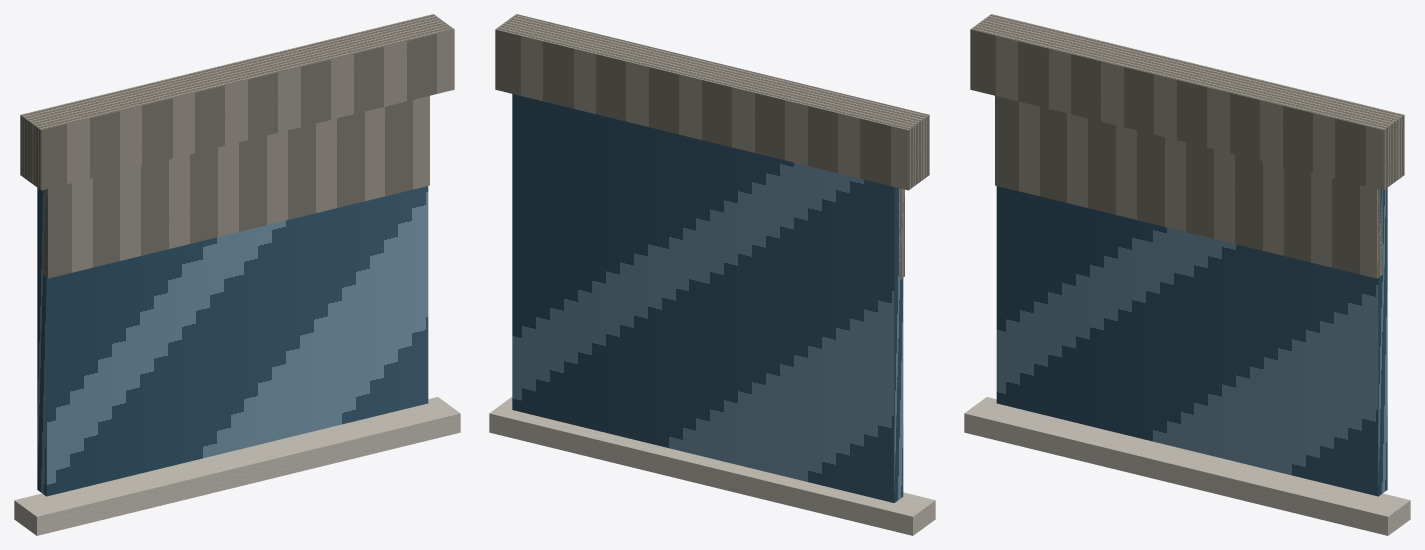
Rendered from window-ensanche-lod0.glb.
3 renders of one model, left to right at view 1: azimuth 30°, elevation 25°; view 2: azimuth 150°, elevation 25°; view 3: azimuth 330°, elevation 25°, orthographic.
Visible parts, largest first — view 1: window-ensanche-lod0; view 2: window-ensanche-lod0; view 3: window-ensanche-lod0.
Part boxes in pixels (left/top/right/bottom): window-ensanche-lod0: left=14, top=14, right=460, bottom=535; window-ensanche-lod0: left=489, top=14, right=935, bottom=535; window-ensanche-lod0: left=964, top=14, right=1410, bottom=535.
Bounding box in the file's own units: 1.62 × 1.48 × 0.15.
1 material, 1 textured.
